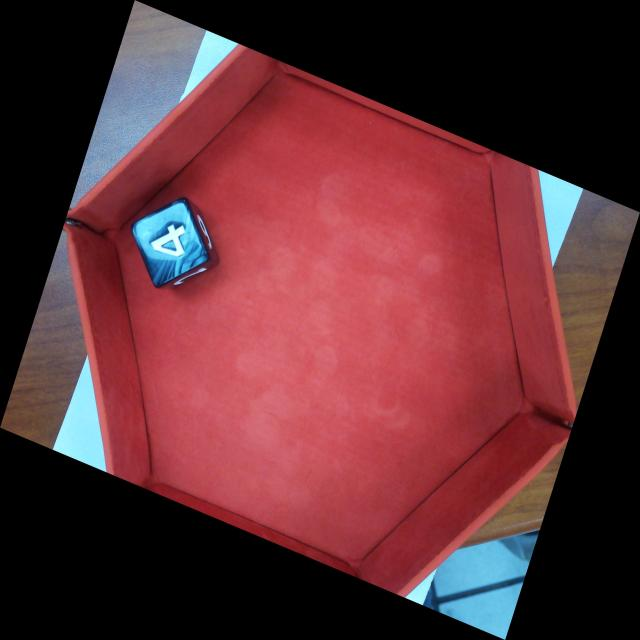dice: (131, 198, 210, 288)
